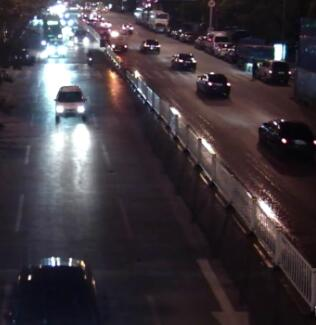bus: (147, 8, 171, 32)
car: (13, 256, 106, 322), (256, 116, 314, 165), (52, 82, 89, 122), (254, 56, 294, 86), (194, 69, 232, 100), (168, 50, 197, 71), (140, 36, 162, 54), (206, 27, 222, 51), (216, 39, 234, 56)
